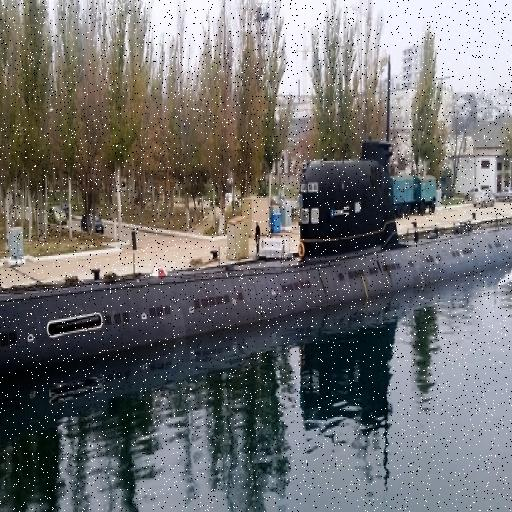submarine: (1, 158, 512, 411)
